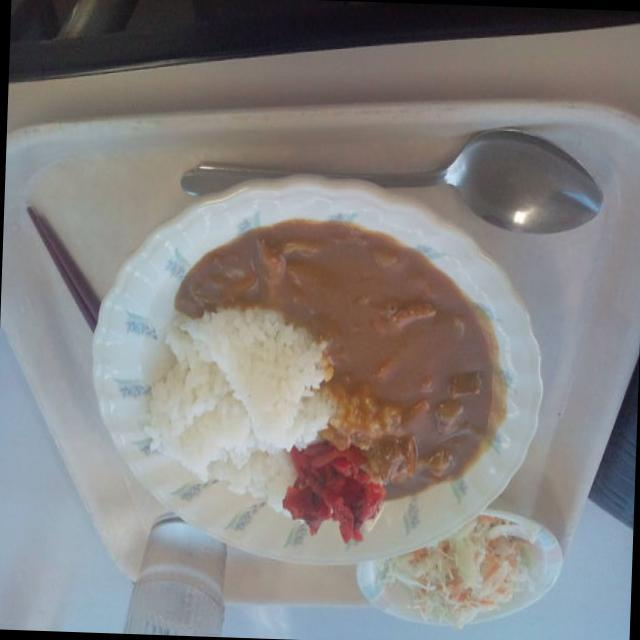Beef Curry: (145, 207, 508, 521)
Rice: (140, 310, 298, 510)
